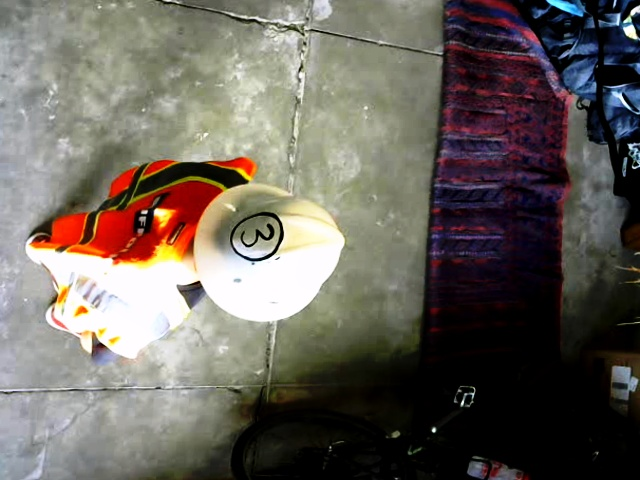three: (228, 210, 285, 260)
